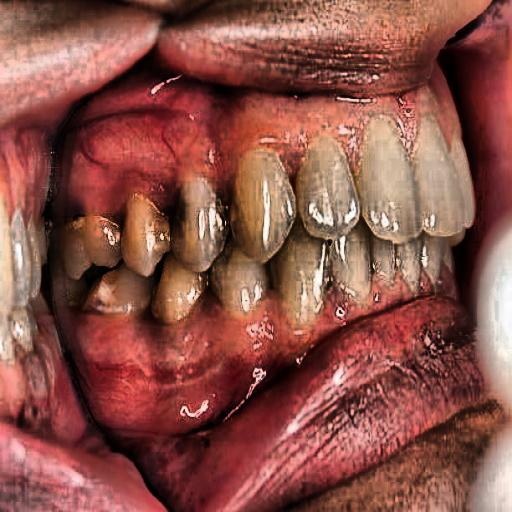Gingivitis: (78, 305, 269, 433), (57, 104, 232, 199)
